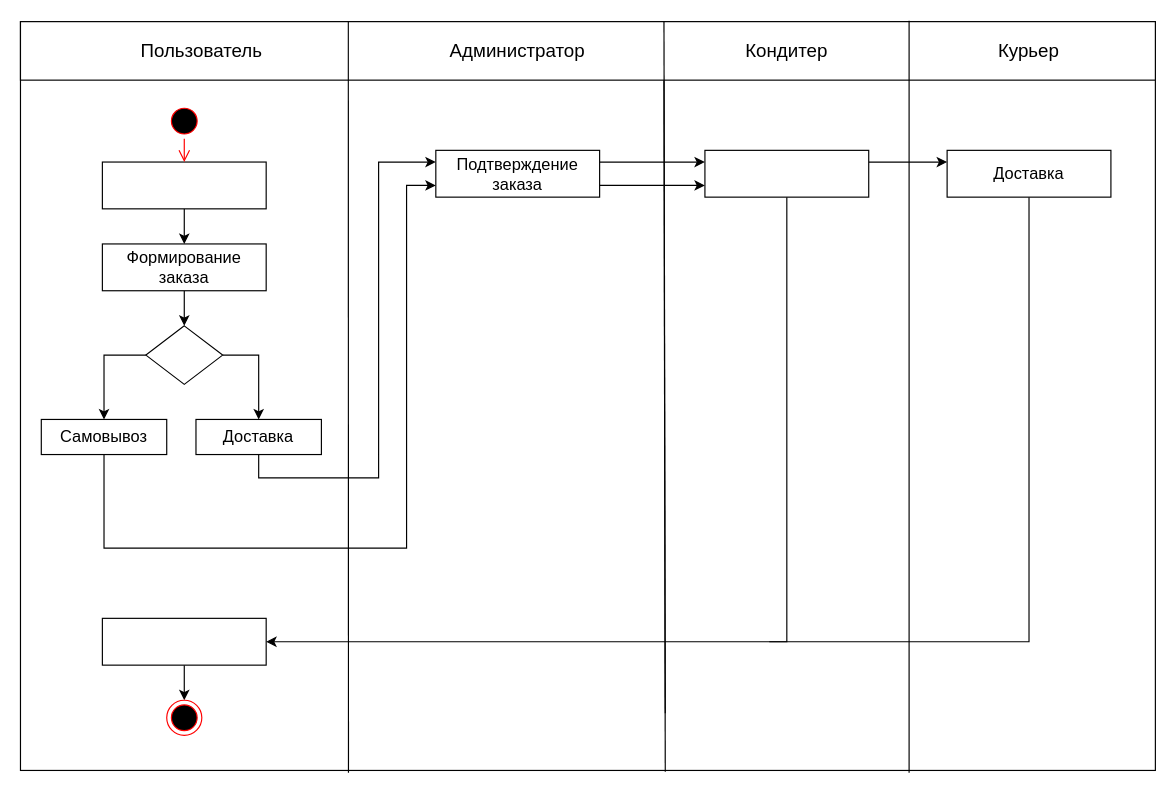
Some shapes in this 1176 by 794 pixel diagram are drawn without their labels. Here are the shapes that lost their labels. From the top down, the box of each, then its label:
(101, 161, 266, 209): Выбор товара
(704, 149, 869, 197): Готовка заказа
(101, 617, 266, 665): Получение заказа
